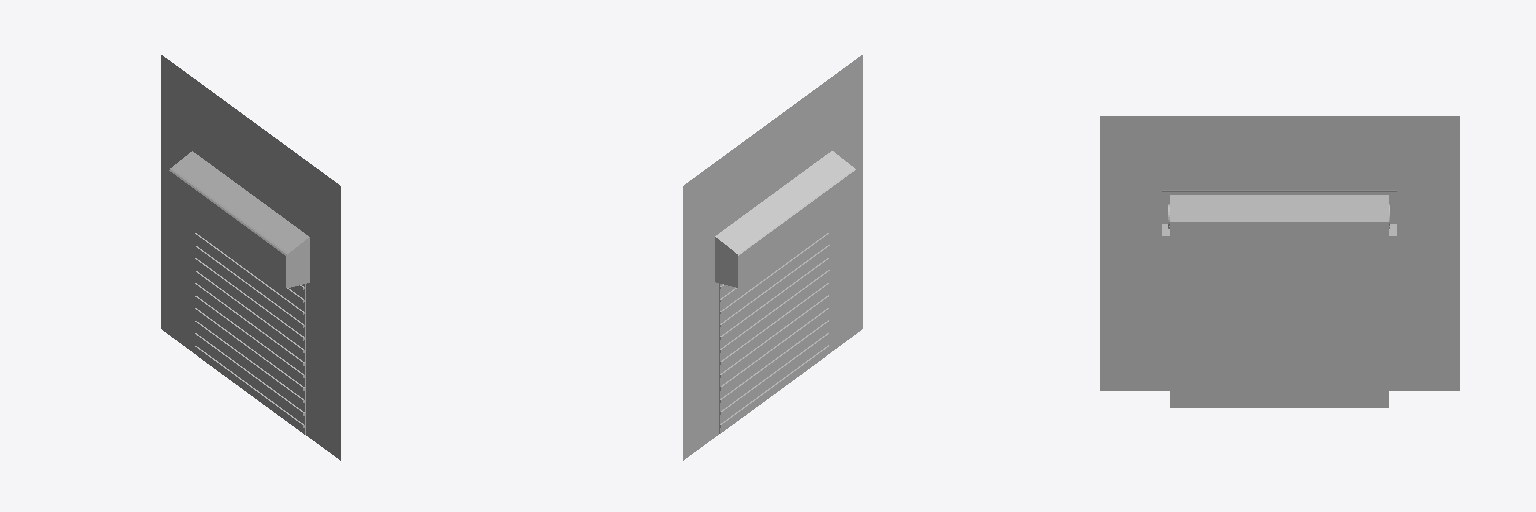
The model's file is GarageWall.obj.
3 views of the same model, side by side, from view 1: azimuth 30°, elevation 25°; view 2: azimuth 150°, elevation 25°; view 3: azimuth 270°, elevation 25° (orthographic).
Visible parts, largest first — view 1: Cube.008_Cube.016; view 2: Cube.008_Cube.016; view 3: Cube.008_Cube.016.
Boxes of the visible parts, x1=… form: Cube.008_Cube.016: x1=161, y1=55, x2=340, y2=460; Cube.008_Cube.016: x1=683, y1=55, x2=862, y2=460; Cube.008_Cube.016: x1=1100, y1=116, x2=1459, y2=407.
Size of the model in its own units: 0.5743 by 2.62 by 3.11.